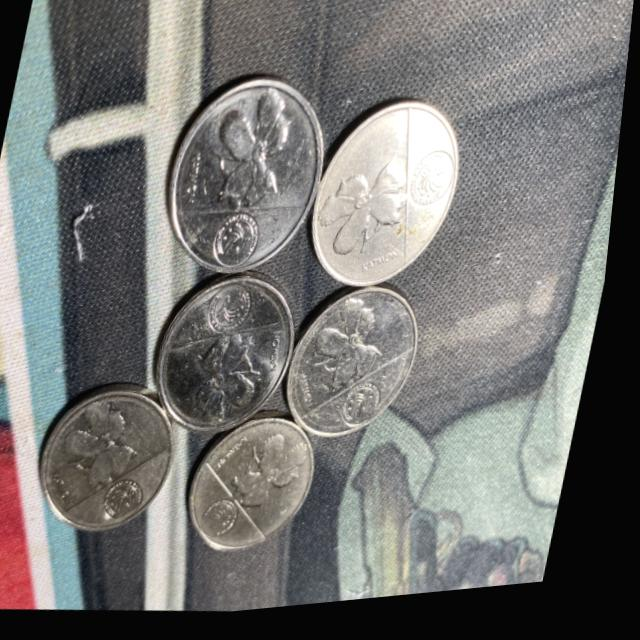25Cent_New_Back: (191, 80, 305, 230), (307, 159, 423, 292), (47, 393, 156, 520), (171, 326, 287, 434), (309, 301, 405, 412), (235, 432, 324, 527)
